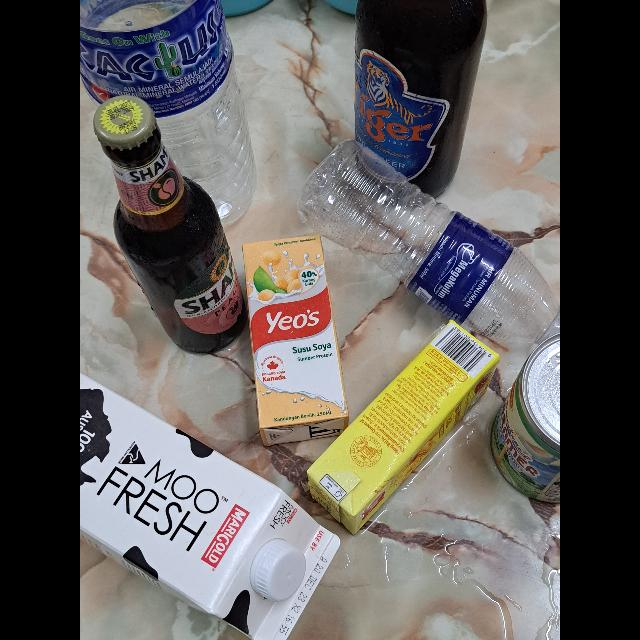caixinha: (80, 370, 342, 640), (302, 320, 500, 518), (245, 236, 348, 446)
garrafa de vidro: (94, 96, 248, 354), (352, 1, 482, 196)
garrafa plástica: (305, 134, 559, 342), (80, 0, 260, 234)
lata: (494, 333, 560, 509)
tampa plástica: (251, 540, 307, 604)
